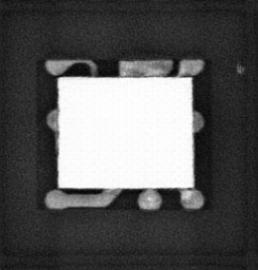DIE_INK: (234, 62, 246, 73)
